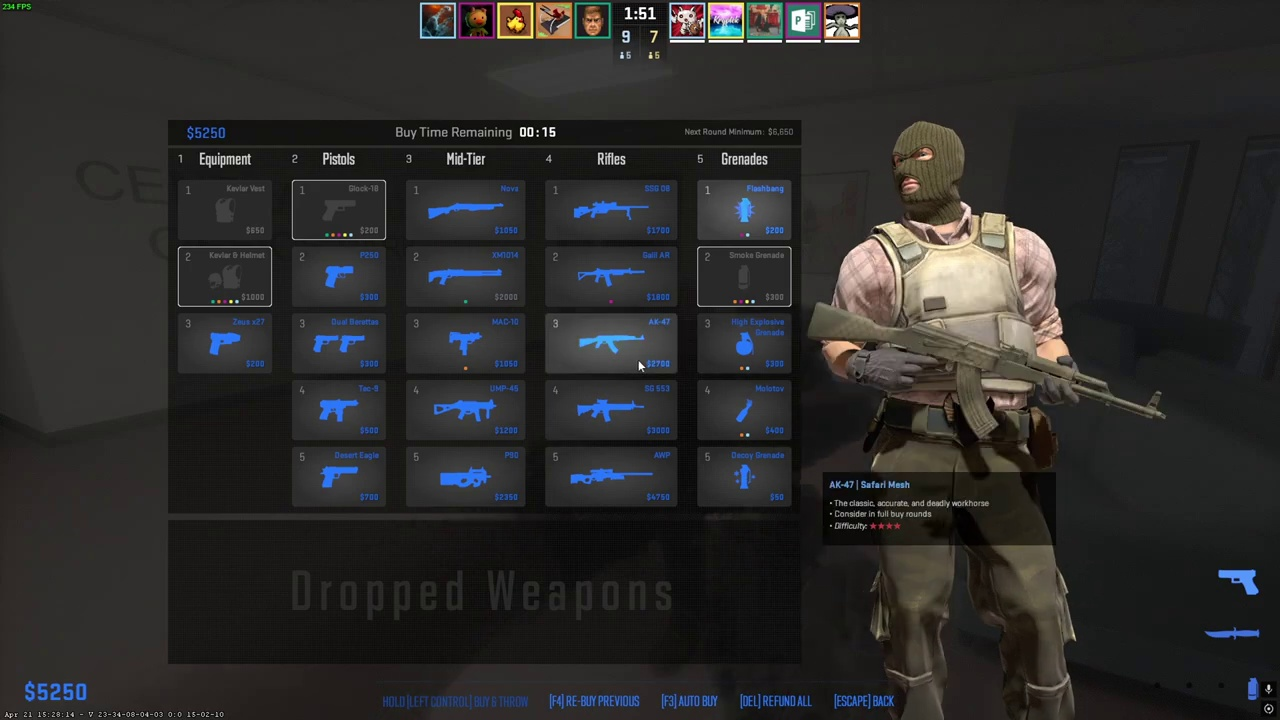Terrorist: (846, 122, 1079, 720)
